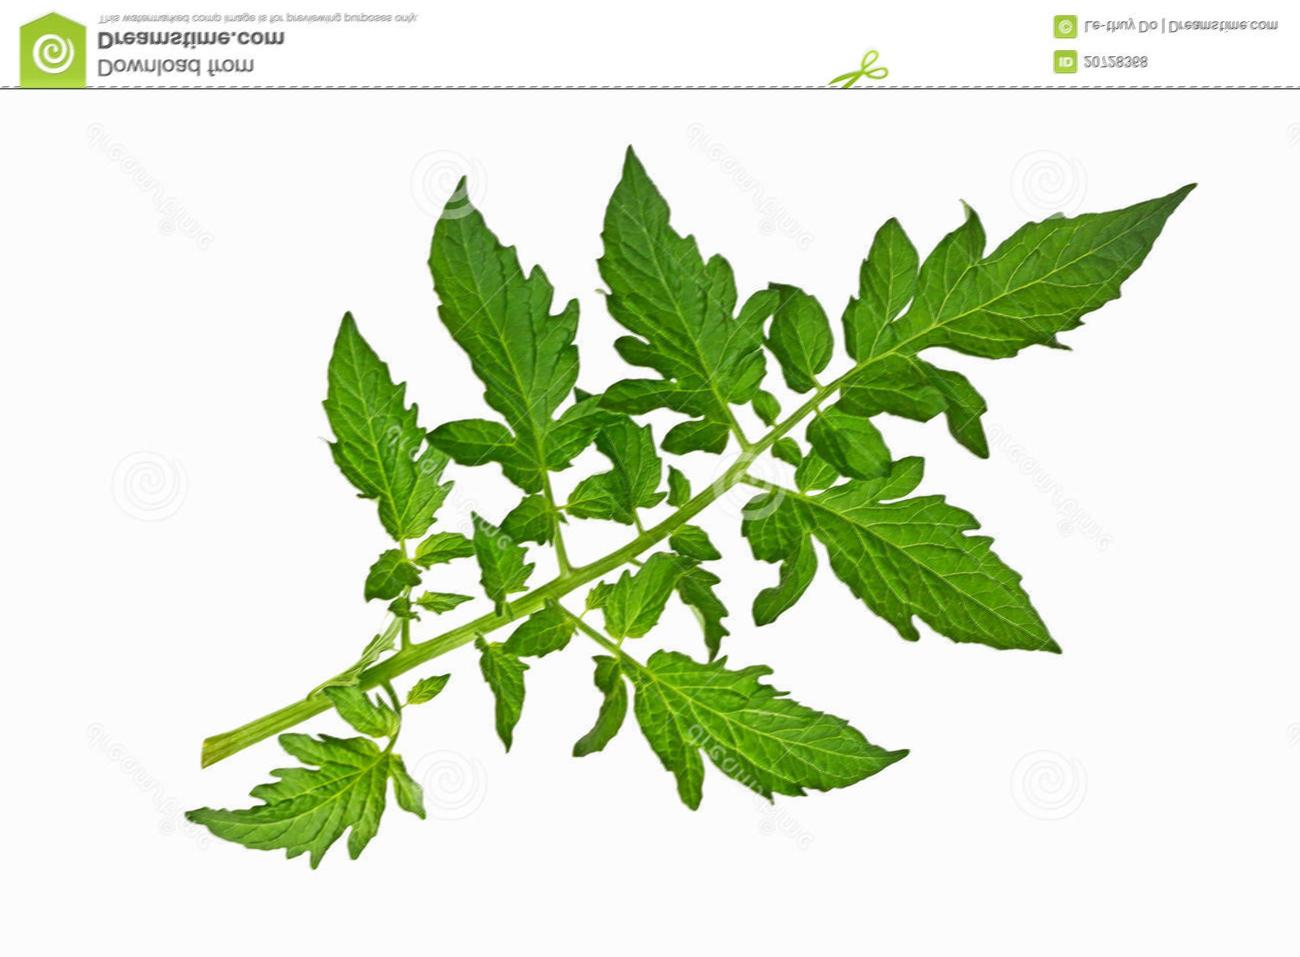Tomato leaf: (870, 165, 1231, 381), (402, 179, 619, 511), (590, 139, 781, 473), (771, 459, 1088, 659), (576, 633, 950, 801), (176, 693, 450, 905), (294, 327, 482, 562)
